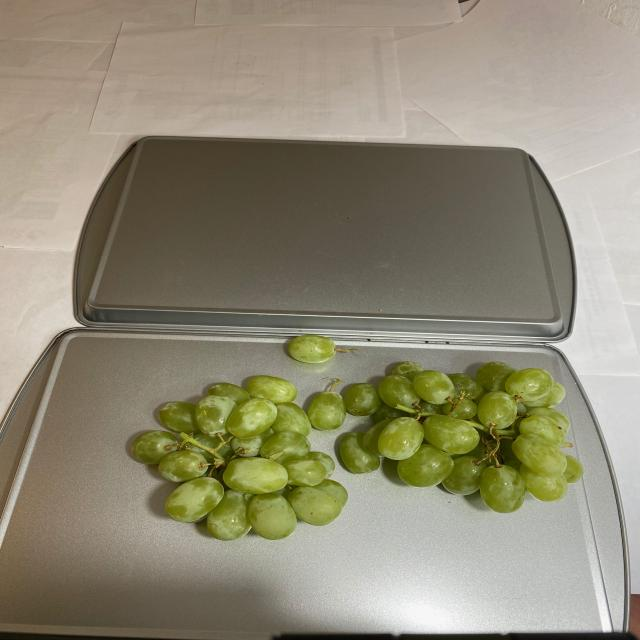Grapes: (127, 339, 580, 546)
